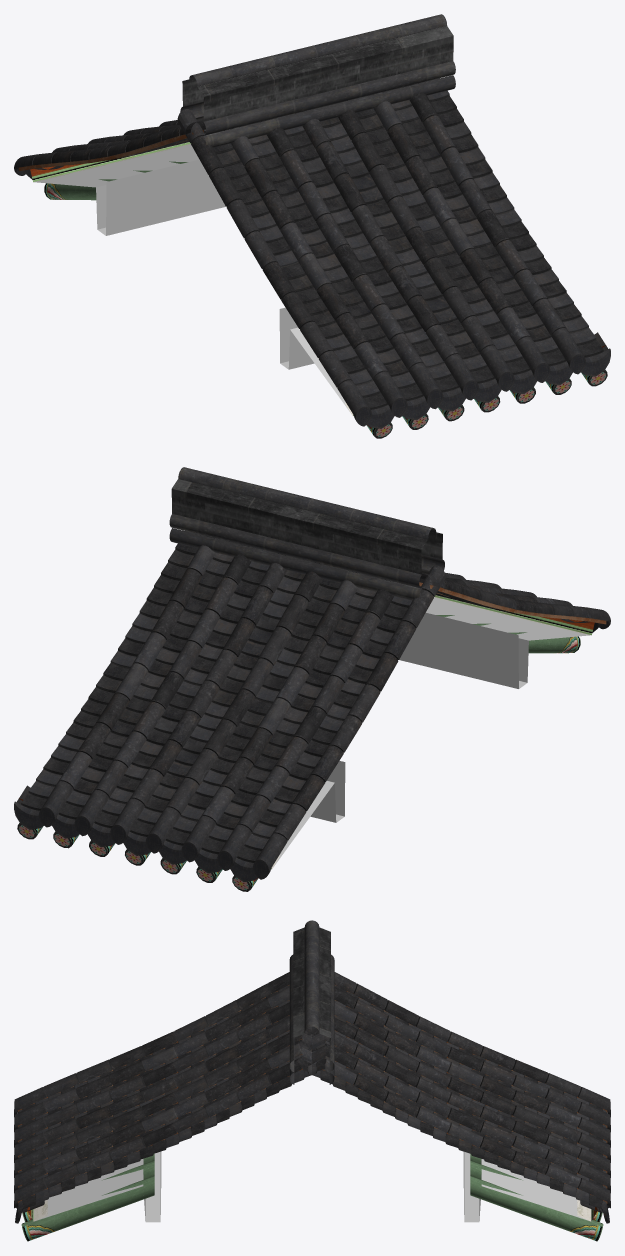
Rendered from SM_Giwa02B_a9.fbx.
The picture shows the model from 3 angles, top to bottom: view 1: azimuth 30°, elevation 25°; view 2: azimuth 150°, elevation 25°; view 3: azimuth 270°, elevation 25°; orthographic projection. The views are drawn at different scales.
Visible parts, largest first — view 1: SM_Giwa02B_a9; view 2: SM_Giwa02B_a9; view 3: SM_Giwa02B_a9.
Part boxes in pixels (x1,y1,x2,y2): SM_Giwa02B_a9: (14, 14, 610, 438); SM_Giwa02B_a9: (14, 467, 610, 891); SM_Giwa02B_a9: (14, 920, 610, 1241).
Size of the model in its own units: 222 by 510 by 205.
